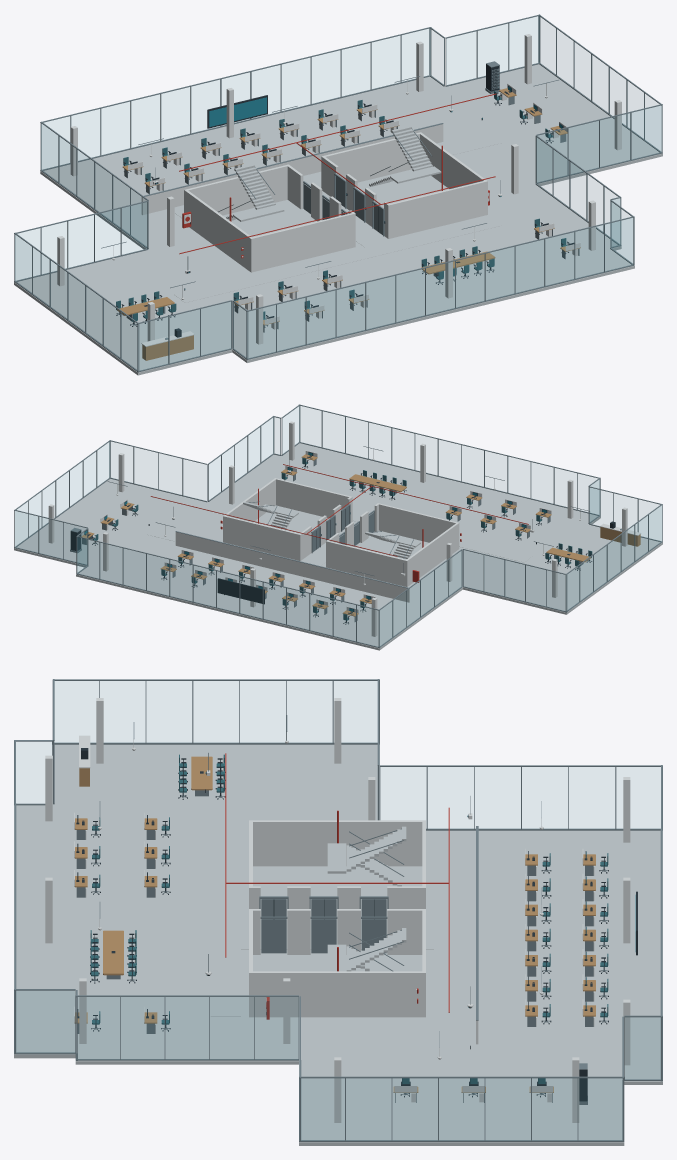
3 renders of one model, top to bottom at view 1: azimuth 30°, elevation 25°; view 2: azimuth 150°, elevation 25°; view 3: azimuth 270°, elevation 25°, orthographic. The views are drawn at different scales.
Visible parts, largest first — view 1: T1_F08_SLAB, T1_F08_WHITE, T1_F08_GLASS_S, T1_F08_GLASS_N, T1_F08_STEEL, T1_F08_GLASS_W, T1_F08_GLASS_E, T1_F08_WOOD, T1_F08_FABRIC, T1_F08_DARK, T1_F08_RED, T1_F08_SCREEN; view 2: T1_F08_SLAB, T1_F08_WHITE, T1_F08_GLASS_N, T1_F08_GLASS_S, T1_F08_STEEL, T1_F08_GLASS_W, T1_F08_GLASS_E, T1_F08_WOOD, T1_F08_DARK, T1_F08_FABRIC, T1_F08_RED; view 3: T1_F08_SLAB, T1_F08_GLASS_E, T1_F08_GLASS_W, T1_F08_WHITE, T1_F08_STEEL, T1_F08_WOOD, T1_F08_DARK, T1_F08_FABRIC, T1_F08_RED.
Part boxes in pixels (x1,y1,x2,y2): T1_F08_SLAB: (14, 64, 662, 375); T1_F08_WHITE: (57, 34, 621, 346); T1_F08_GLASS_S: (140, 106, 660, 370); T1_F08_GLASS_N: (19, 17, 538, 267); T1_F08_STEEL: (14, 14, 662, 372); T1_F08_GLASS_W: (15, 125, 245, 369); T1_F08_GLASS_E: (431, 18, 657, 243); T1_F08_WOOD: (117, 88, 580, 360); T1_F08_FABRIC: (116, 90, 567, 321); T1_F08_DARK: (116, 64, 574, 337); T1_F08_RED: (179, 93, 496, 258); T1_F08_SCREEN: (156, 75, 562, 289); T1_F08_SLAB: (14, 443, 662, 650); T1_F08_WHITE: (48, 421, 641, 636); T1_F08_GLASS_N: (15, 512, 564, 646); T1_F08_GLASS_S: (110, 406, 657, 527); T1_F08_STEEL: (14, 404, 662, 648); T1_F08_GLASS_W: (380, 480, 661, 645); T1_F08_GLASS_E: (18, 408, 298, 536); T1_F08_WOOD: (81, 454, 640, 616); T1_F08_DARK: (70, 452, 615, 624); T1_F08_FABRIC: (92, 457, 592, 620); T1_F08_RED: (150, 464, 528, 582); T1_F08_SLAB: (14, 744, 662, 1145); T1_F08_GLASS_E: (16, 991, 660, 1139); T1_F08_GLASS_W: (16, 681, 660, 828); T1_F08_WHITE: (45, 698, 630, 1122); T1_F08_STEEL: (14, 679, 662, 1141); T1_F08_WOOD: (74, 756, 595, 1092); T1_F08_DARK: (76, 748, 637, 1101); T1_F08_FABRIC: (90, 754, 608, 1083); T1_F08_RED: (225, 753, 449, 1019).
Bounding box in the file's own units: 55.47 × 4.5 × 38.19.
